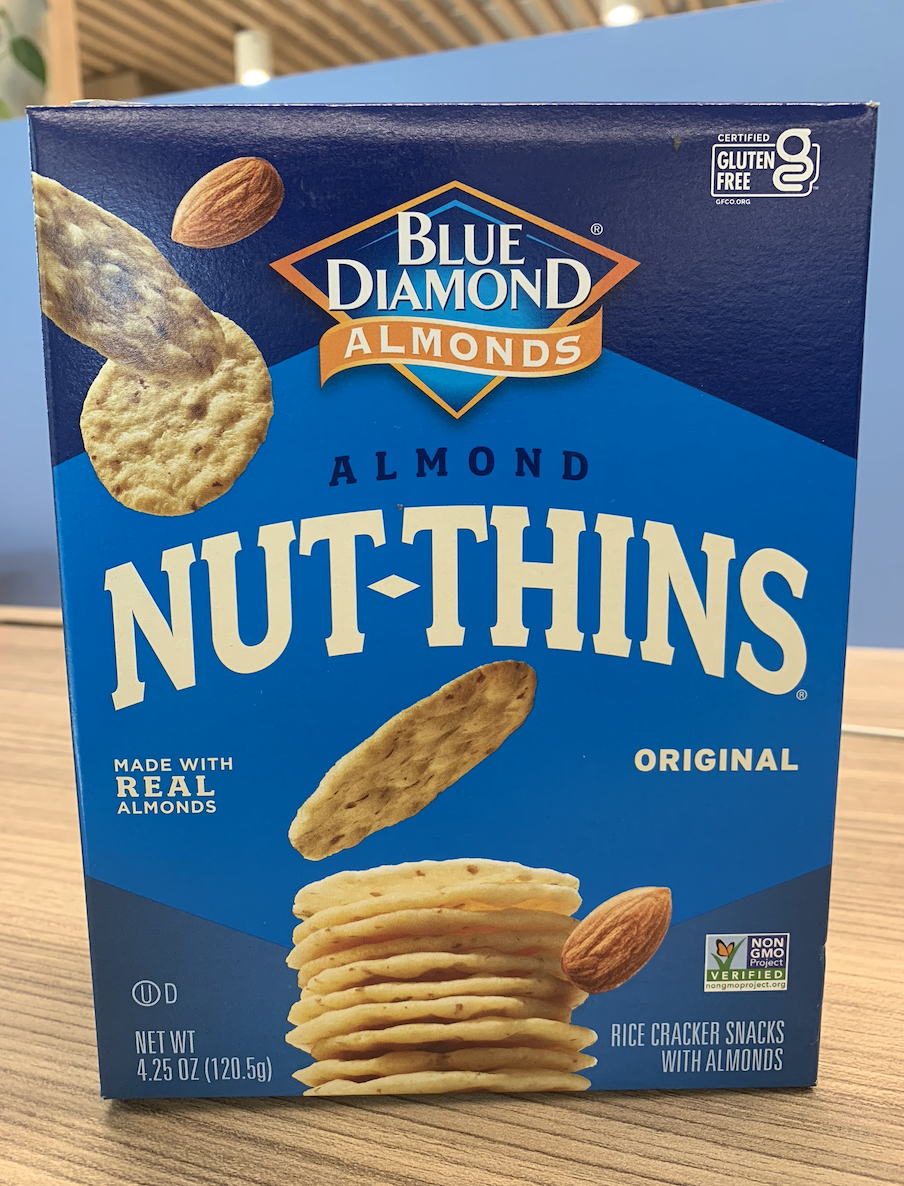crackers_150g: (84, 124, 812, 1095)
